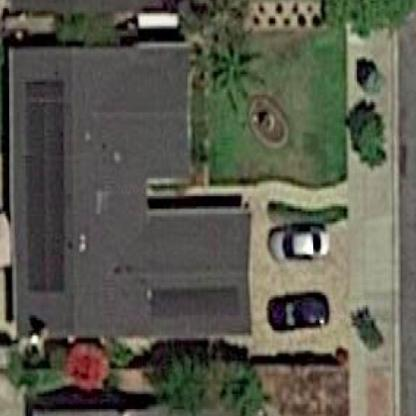car: (265, 287, 333, 336), (265, 218, 332, 267)
solar_panel: (24, 67, 79, 306), (133, 284, 250, 324)
